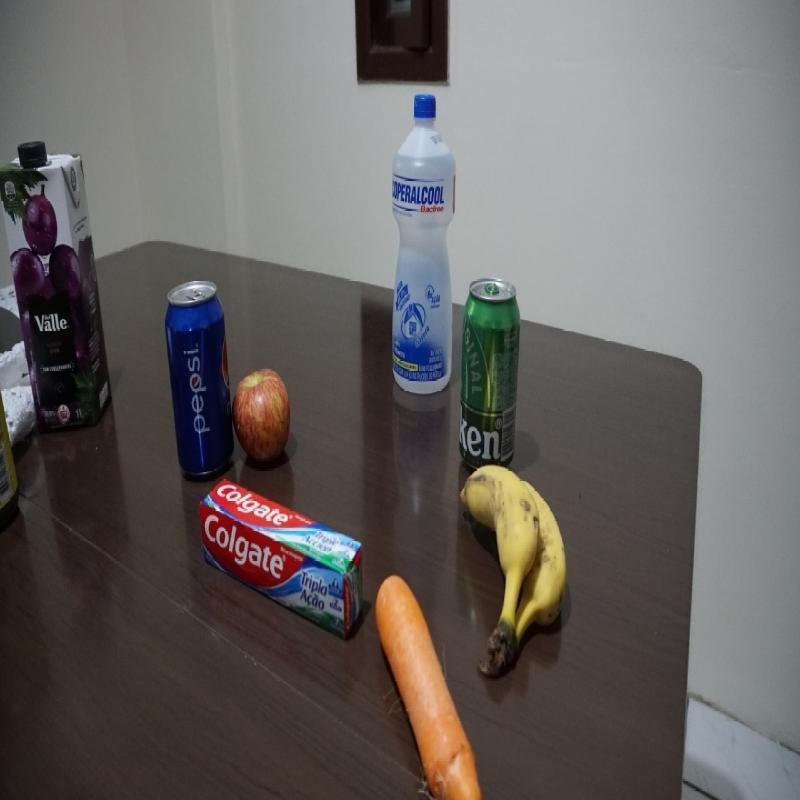Alcohol Bottle: (390, 90, 458, 400)
Apple: (233, 367, 292, 470)
Banana: (456, 462, 570, 681)
Beer can: (460, 277, 523, 476)
Carrot: (373, 573, 487, 800)
Soda can: (164, 277, 237, 481)
Toothpaste: (202, 480, 364, 640)
